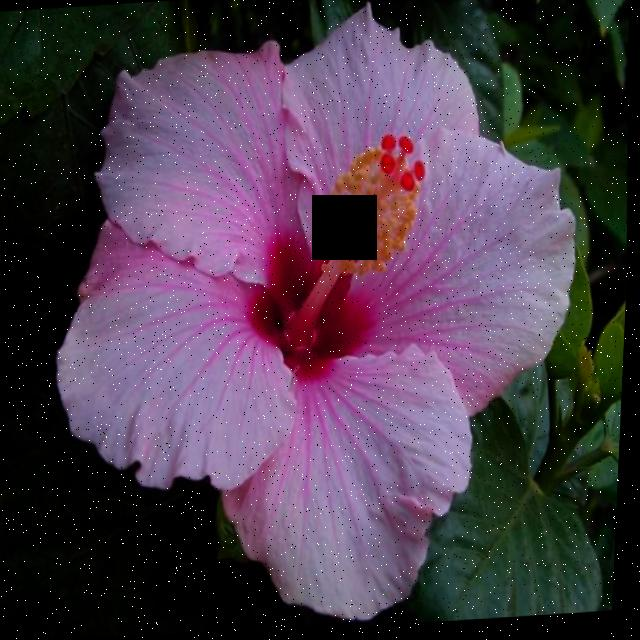hibiscus: (18, 0, 620, 639)
